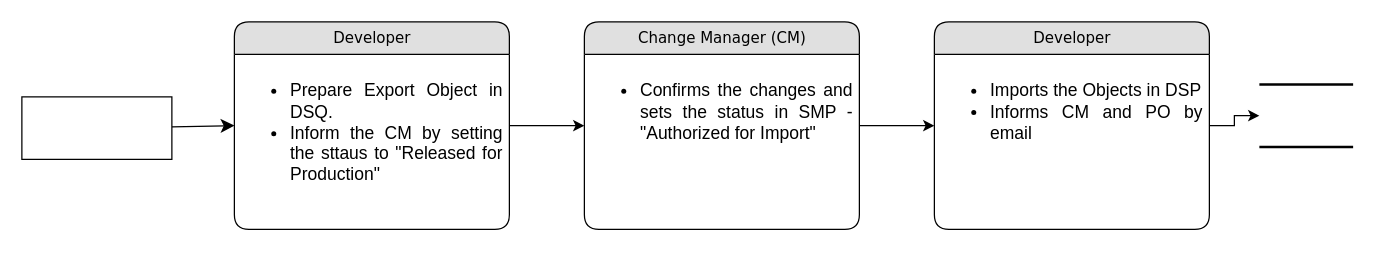
Some shapes in this 1376 by 264 pixel diagram are drawn without their labels. The shapes that lost their labels are listed below. From the top down, each one's centre as x and y in pixels, then its label:
(x=96, y=127): Tester Confirms the changes in DSQ
(x=1306, y=115): Closed by CM
